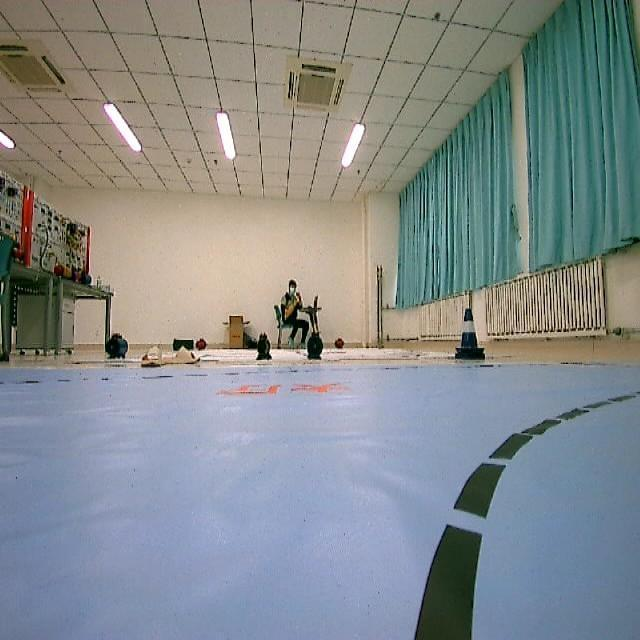obstacle: (449, 303, 490, 368)
